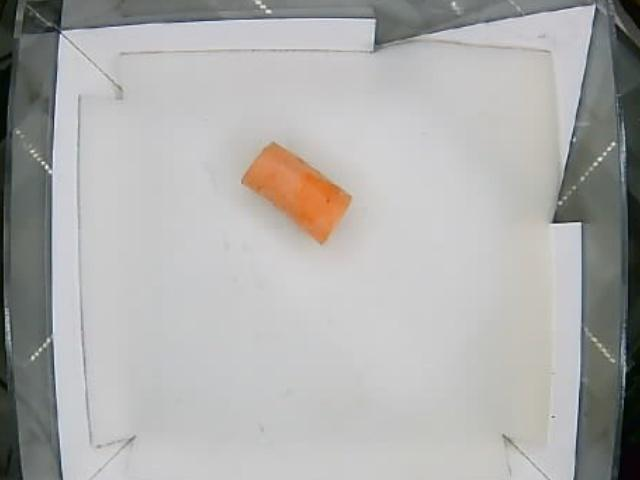Carrot: (239, 138, 352, 244)
